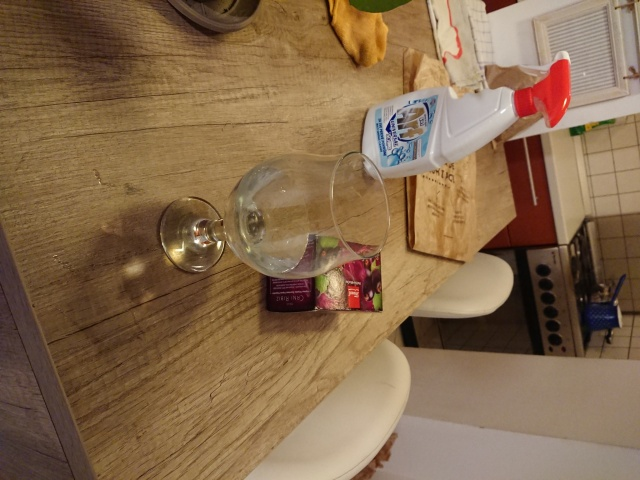Franck Black Currant Tea 60g: (263, 231, 386, 317)
